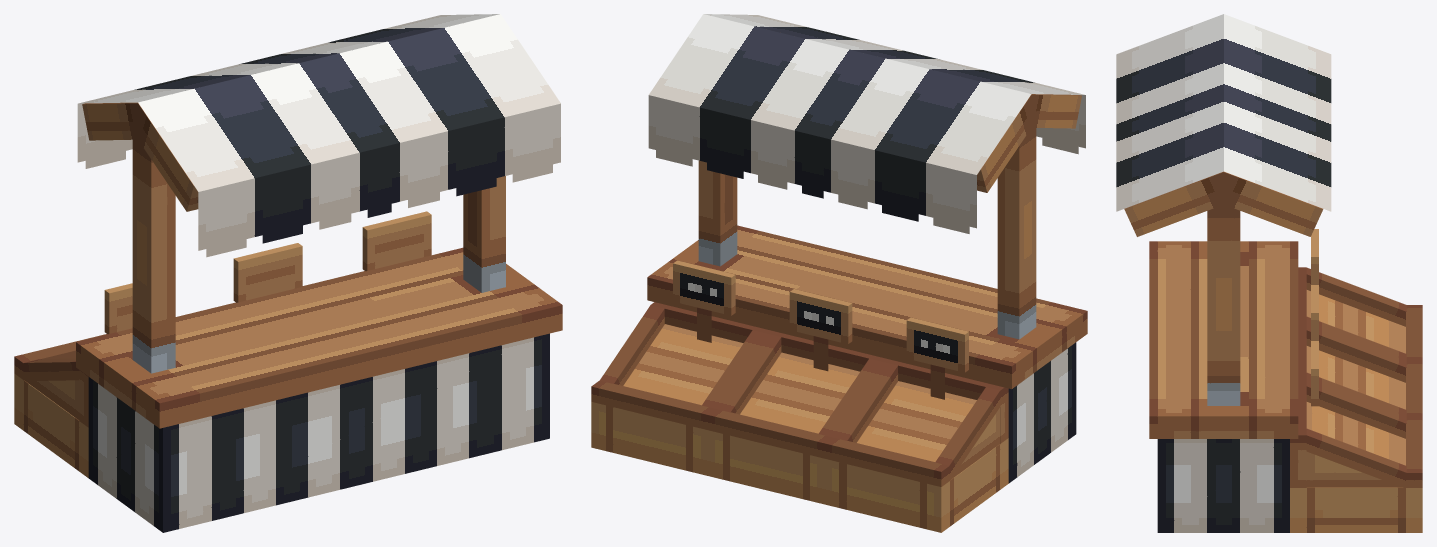
Rendered from market-stall-base.gltf.
3 renders of one model, left to right at view 1: azimuth 30°, elevation 25°; view 2: azimuth 150°, elevation 25°; view 3: azimuth 270°, elevation 25°, orthographic. The views are drawn at different scales.
Parts seen in each view (by area): view 1: cube (×17); view 2: cube (×32); view 3: cube (×28).
Boxes of the visible parts, <box> form: cube (×17): <box>14,14,562,532</box>; cube (×32): <box>591,14,1087,532</box>; cube (×28): <box>1116,14,1422,532</box>.
Bounding box in the file's own units: 2.34 × 2.22 × 1.73.
Materials: 1 (1 with a texture image).
